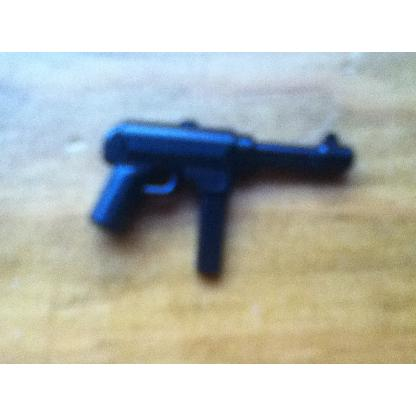gun: (90, 118, 354, 278)
